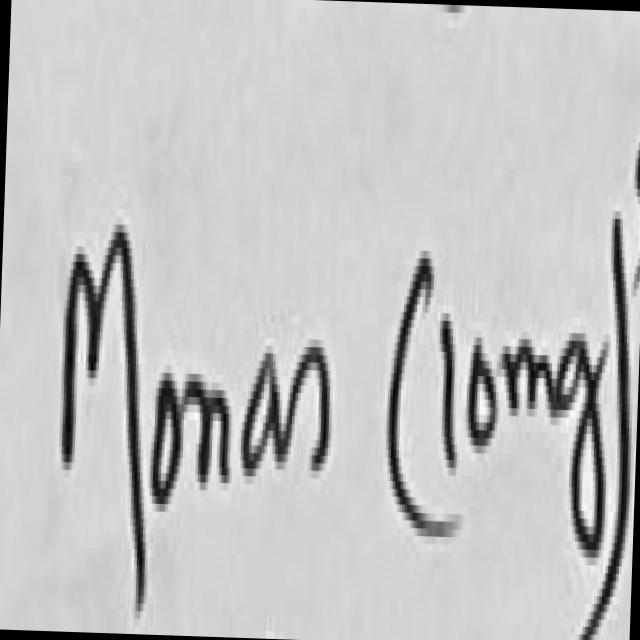0: (470, 345, 498, 445)
1: (442, 320, 456, 467)
M: (61, 232, 145, 607)
a: (243, 353, 282, 476)
g: (555, 340, 610, 557)
m: (504, 339, 556, 416)
n: (184, 381, 231, 490)
o: (152, 380, 181, 503)
s: (286, 347, 332, 467)
